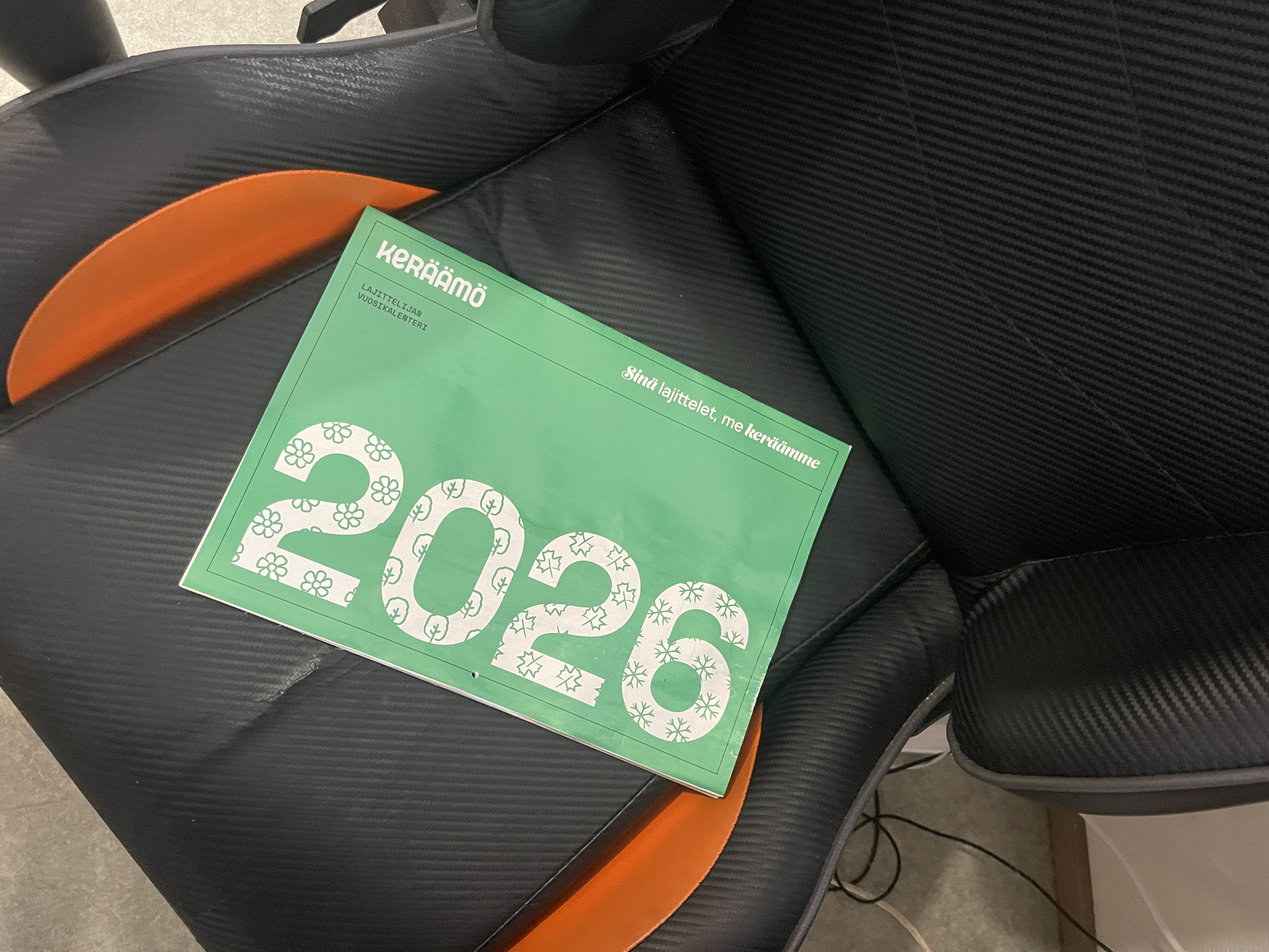paper: (173, 202, 855, 809)
